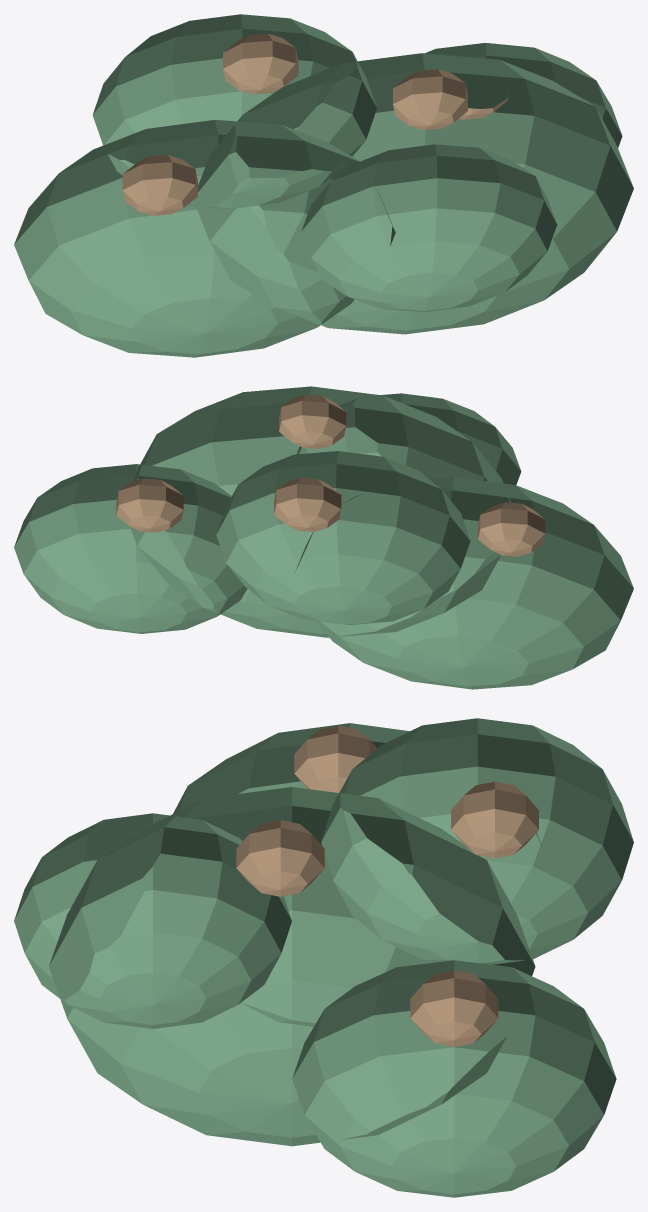
The model's file is nat-moss-cluster-a.gltf.
3 renders of one model, top to bottom at view 1: azimuth 30°, elevation 25°; view 2: azimuth 150°, elevation 25°; view 3: azimuth 270°, elevation 25°, orthographic. The views are drawn at different scales.
Parts seen in each view (by area): view 1: moss; view 2: moss; view 3: moss.
Boxes of the visible parts, x1=… form: moss: x1=14, y1=14, x2=633, y2=357; moss: x1=14, y1=386, x2=633, y2=689; moss: x1=14, y1=718, x2=633, y2=1197.
Bounding box in the file's own units: 1.5 × 0.57 × 1.07.
